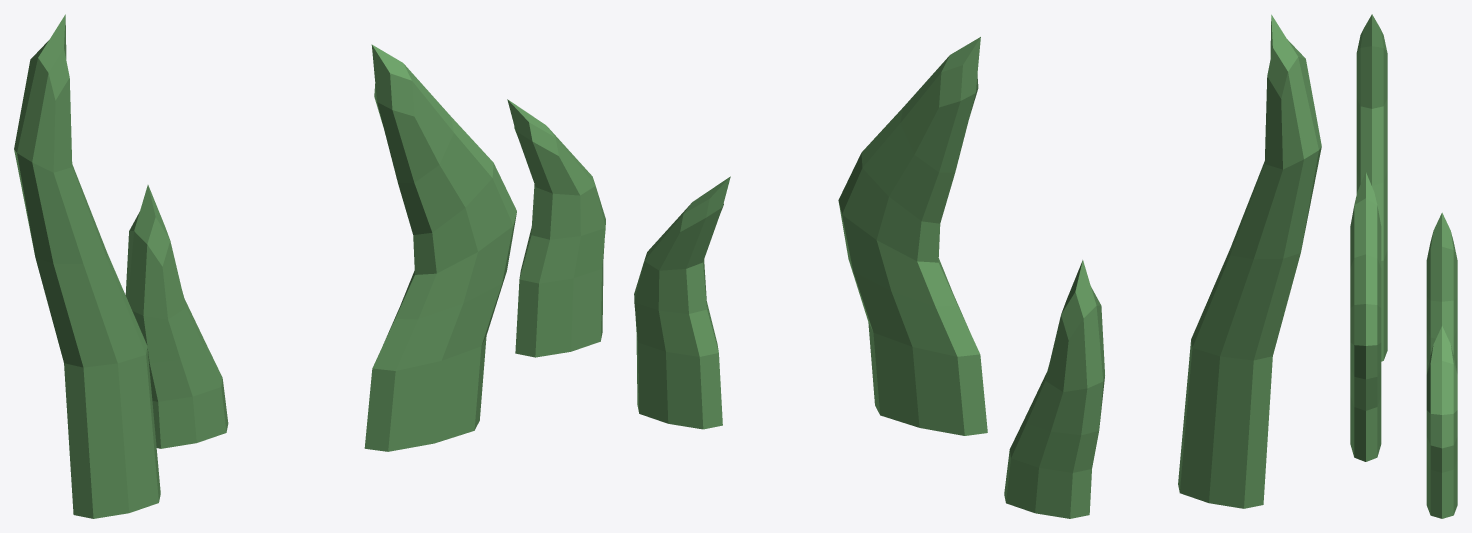
The model's file is grass.glb.
3 renders of one model, left to right at view 1: azimuth 30°, elevation 25°; view 2: azimuth 150°, elevation 25°; view 3: azimuth 270°, elevation 25°, orthographic. The views are drawn at different scales.
Parts seen in each view (by area): view 1: Grass_Plane.004; view 2: Grass_Plane.004; view 3: Grass_Plane.004.
Boxes of the visible parts, x1,y1,x2,y2 form: Grass_Plane.004: (14, 14, 605, 518); Grass_Plane.004: (634, 14, 1321, 518); Grass_Plane.004: (1350, 14, 1457, 518).
Bounding box in the file's own units: 0.7256 × 0.5415 × 0.1641.
